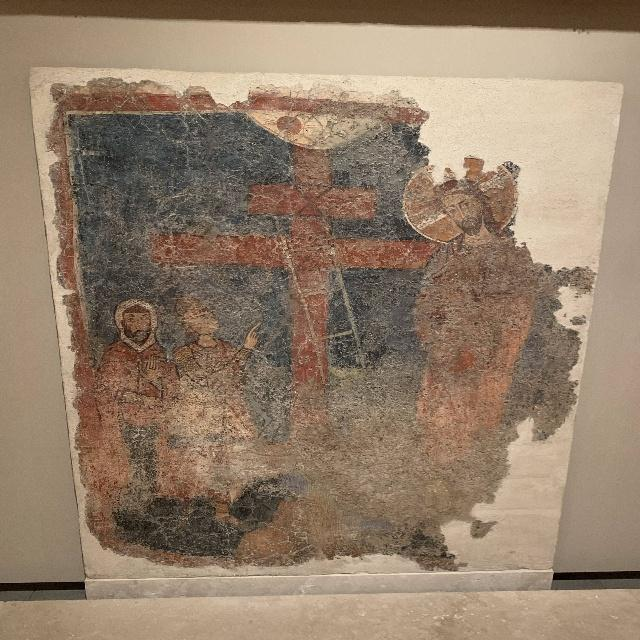aura: (399, 153, 518, 239)
christ_miracle: (403, 150, 537, 496)
cross: (149, 136, 417, 481)
